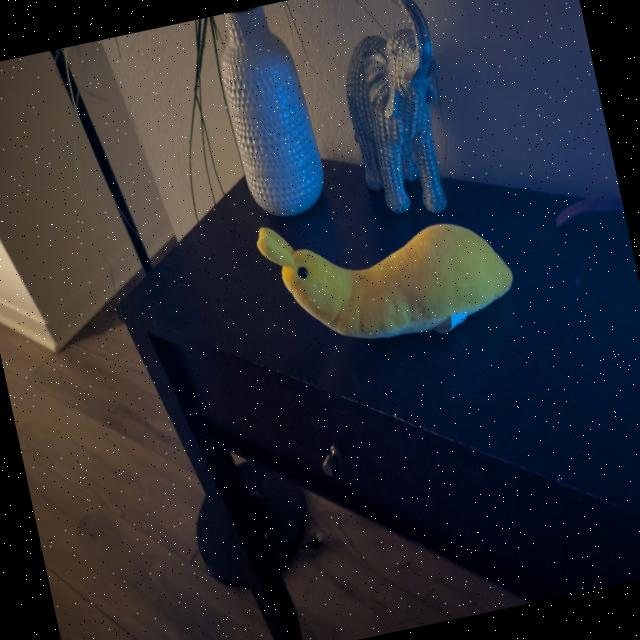banana-slug-toy: (246, 163, 536, 369)
